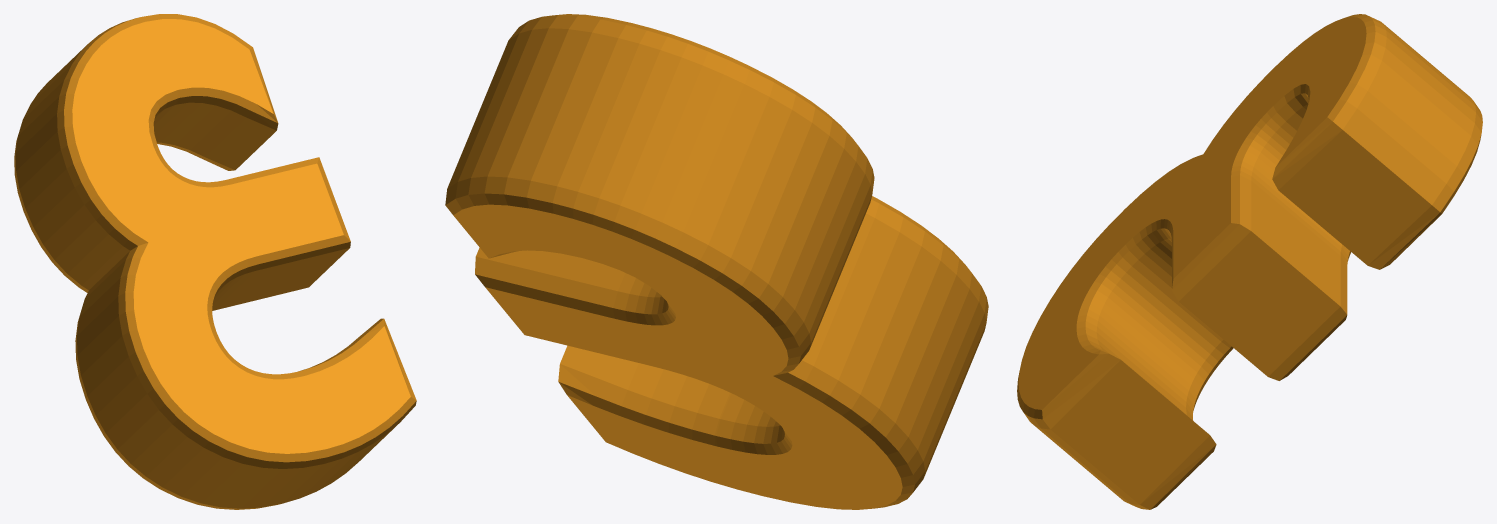
The picture shows the model from 3 angles, left to right: view 1: azimuth 30°, elevation 25°; view 2: azimuth 150°, elevation 25°; view 3: azimuth 270°, elevation 25°; orthographic projection. The views are drawn at different scales.
Visible parts, largest first — view 1: letter; view 2: letter; view 3: letter.
Boxes of the visible parts, x1=… form: letter: x1=14, y1=14, x2=416, y2=509; letter: x1=445, y1=14, x2=988, y2=509; letter: x1=1017, y1=14, x2=1482, y2=509.
Bounding box in the file's own units: 0.703 × 1.11 × 1.07.
